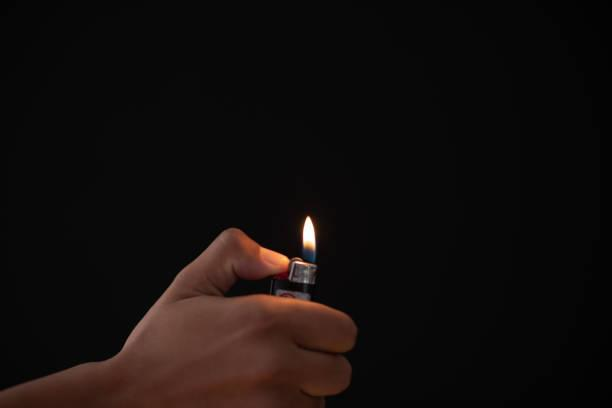Fire: (297, 209, 324, 263)
